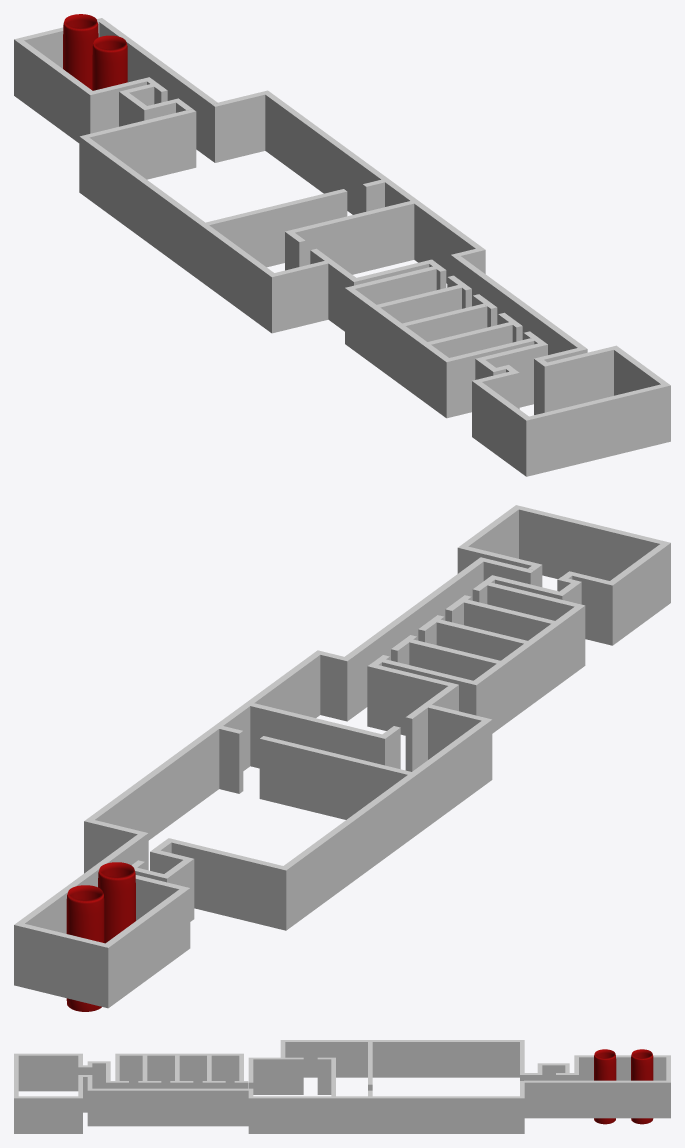
Rendered from Level 1.2.fbx.
3 renders of one model, top to bottom at view 1: azimuth 30°, elevation 25°; view 2: azimuth 150°, elevation 25°; view 3: azimuth 270°, elevation 25°, orthographic. The views are drawn at different scales.
Visible parts, largest first — view 1: Armazem_e_Zona_de_Acesso, Armazem_e_Zona_de_Acesso2, Lançamento_Tropedos, Quartos, Lançamento_Nuclear, Corredor, Corredor3, Tubo2, Tubo1; view 2: Armazem_e_Zona_de_Acesso, Armazem_e_Zona_de_Acesso2, Lançamento_Nuclear, Quartos, Lançamento_Tropedos, Corredor, Tubo1, Tubo2, Corredor3; view 3: Armazem_e_Zona_de_Acesso2, Armazem_e_Zona_de_Acesso, Lançamento_Nuclear, Corredor, Lançamento_Tropedos, Quartos, Tubo2, Tubo1, Corredor3, Corredor2, Corredor1, Corredor5.
Boxes of the visible parts, bbox=[...] form: Armazem_e_Zona_de_Acesso: bbox=[79, 109, 435, 333]; Armazem_e_Zona_de_Acesso2: bbox=[212, 90, 485, 283]; Lançamento_Tropedos: bbox=[472, 345, 670, 476]; Quartos: bbox=[345, 266, 534, 418]; Lançamento_Nuclear: bbox=[14, 18, 217, 160]; Corredor: bbox=[454, 256, 587, 414]; Corredor3: bbox=[475, 331, 547, 407]; Tubo2: bbox=[63, 14, 98, 89]; Tubo1: bbox=[92, 35, 127, 90]; Armazem_e_Zona_de_Acesso: bbox=[166, 663, 492, 930]; Armazem_e_Zona_de_Acesso2: bbox=[84, 650, 400, 873]; Lançamento_Nuclear: bbox=[14, 834, 194, 1008]; Quartos: bbox=[382, 582, 585, 733]; Lançamento_Tropedos: bbox=[457, 505, 670, 645]; Corredor: bbox=[345, 557, 534, 718]; Tubo1: bbox=[98, 862, 135, 943]; Tubo2: bbox=[66, 885, 104, 1011]; Corredor3: bbox=[472, 575, 581, 604]; Armazem_e_Zona_de_Acesso2: bbox=[248, 1057, 524, 1133]; Armazem_e_Zona_de_Acesso: bbox=[248, 1040, 524, 1094]; Lançamento_Nuclear: bbox=[524, 1055, 670, 1118]; Corredor: bbox=[87, 1075, 248, 1126]; Lançamento_Tropedos: bbox=[14, 1053, 87, 1133]; Quartos: bbox=[115, 1053, 243, 1088]; Tubo2: bbox=[631, 1049, 653, 1124]; Tubo1: bbox=[594, 1049, 616, 1124]; Corredor3: bbox=[87, 1061, 128, 1088]; Corredor2: bbox=[138, 1081, 161, 1088]; Corredor1: bbox=[170, 1081, 193, 1088]; Corredor5: bbox=[202, 1081, 225, 1088].
Size of the model in its own units: 29.99 by 15.89 by 143.
